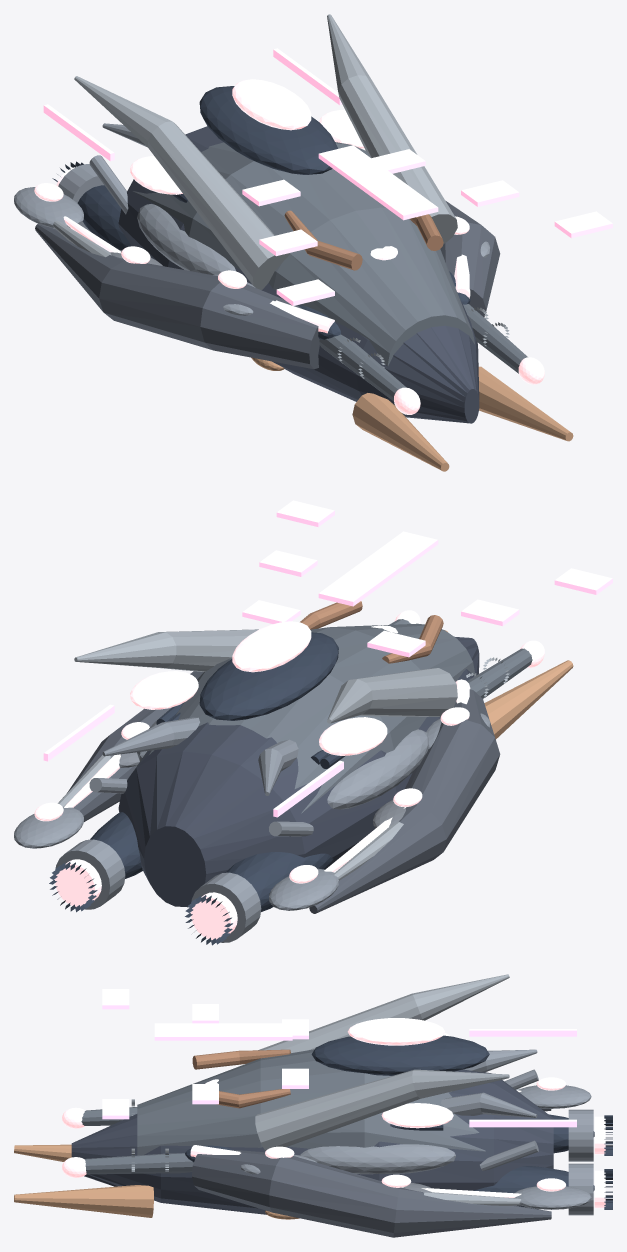
Rendered from npc_bossStreuner.glb.
3 views of the same model, one above another, from view 1: azimuth 30°, elevation 25°; view 2: azimuth 150°, elevation 25°; view 3: azimuth 270°, elevation 25° (orthographic). The views are drawn at different scales.
Parts seen in each view (by area): view 1: upper_armor_scar, armored_scythe_-1, keel_pressure_hull, V59 trim baked, prime_arch_back_-1, prime_arch_back_1, prime_reactor_tower, heavy_shield_pad_-1, prime_secondary_horn_-1, armored_scythe_1, prime_emitter, prime_secondary_horn_1 (+12 smaller); view 2: keel_pressure_hull, upper_armor_scar, armored_scythe_-1, V59 trim baked, prime_reactor_tower, prime_arch_back_-1, prime_arch_back_1, heavy_shield_pad_-1, prime_emitter, engine_armor_-1, prime_secondary_horn_-1, armored_scythe_1 (+18 smaller); view 3: armored_scythe_1, upper_armor_scar, keel_pressure_hull, V59 trim baked, prime_arch_back_1, prime_reactor_tower, prime_arch_back_-1, heavy_shield_pad_1, prime_secondary_horn_1, prime_emitter, long_plasma_cannon_1, predator_dorsal_fang_1 (+20 smaller).
Part boxes in pixels (left/top/right/bottom): upper_armor_scar: left=133, top=142, right=474, bottom=366; armored_scythe_-1: left=35, top=224, right=319, bottom=369; keel_pressure_hull: left=118, top=126, right=479, bottom=423; V59 trim baked: left=43, top=48, right=612, bottom=305; prime_arch_back_-1: left=74, top=76, right=289, bottom=289; prime_arch_back_1: left=327, top=14, right=457, bottom=244; prime_reactor_tower: left=199, top=86, right=337, bottom=174; heavy_shield_pad_-1: left=137, top=204, right=235, bottom=274; prime_secondary_horn_-1: left=352, top=393, right=449, bottom=471; armored_scythe_1: left=440, top=200, right=500, bottom=317; prime_emitter: left=232, top=79, right=311, bottom=130; prime_secondary_horn_1: left=478, top=366, right=573, bottom=441; keel_pressure_hull: left=118, top=636, right=479, bottom=907; upper_armor_scar: left=133, top=623, right=474, bottom=813; armored_scythe_-1: left=309, top=689, right=500, bottom=913; V59 trim baked: left=43, top=500, right=612, bottom=817; prime_reactor_tower: left=199, top=632, right=338, bottom=720; prime_arch_back_-1: left=327, top=668, right=457, bottom=723; prime_arch_back_1: left=74, top=629, right=258, bottom=671; heavy_shield_pad_-1: left=327, top=729, right=428, bottom=809; prime_emitter: left=232, top=621, right=311, bottom=672; engine_armor_-1: left=226, top=852, right=333, bottom=911; prime_secondary_horn_-1: left=484, top=660, right=573, bottom=739; armored_scythe_1: left=67, top=671, right=203, bottom=821; armored_scythe_1: left=192, top=1150, right=551, bottom=1237; upper_armor_scar: left=137, top=1049, right=485, bottom=1155; keel_pressure_hull: left=71, top=1069, right=553, bottom=1214; V59 trim baked: left=102, top=989, right=576, bottom=1127; prime_arch_back_1: left=255, top=1069, right=509, bottom=1150; prime_reactor_tower: left=311, top=1035, right=489, bottom=1075; prime_arch_back_-1: left=258, top=974, right=509, bottom=1052; heavy_shield_pad_1: left=300, top=1144, right=455, bottom=1174; prime_secondary_horn_1: left=14, top=1185, right=153, bottom=1217; prime_emitter: left=347, top=1018, right=444, bottom=1045; long_plasma_cannon_1: left=84, top=1153, right=193, bottom=1174; predator_dorsal_fang_1: left=440, top=1092, right=537, bottom=1117.
Bounding box in the file's own units: 2.1 × 1.32 × 3.86.
